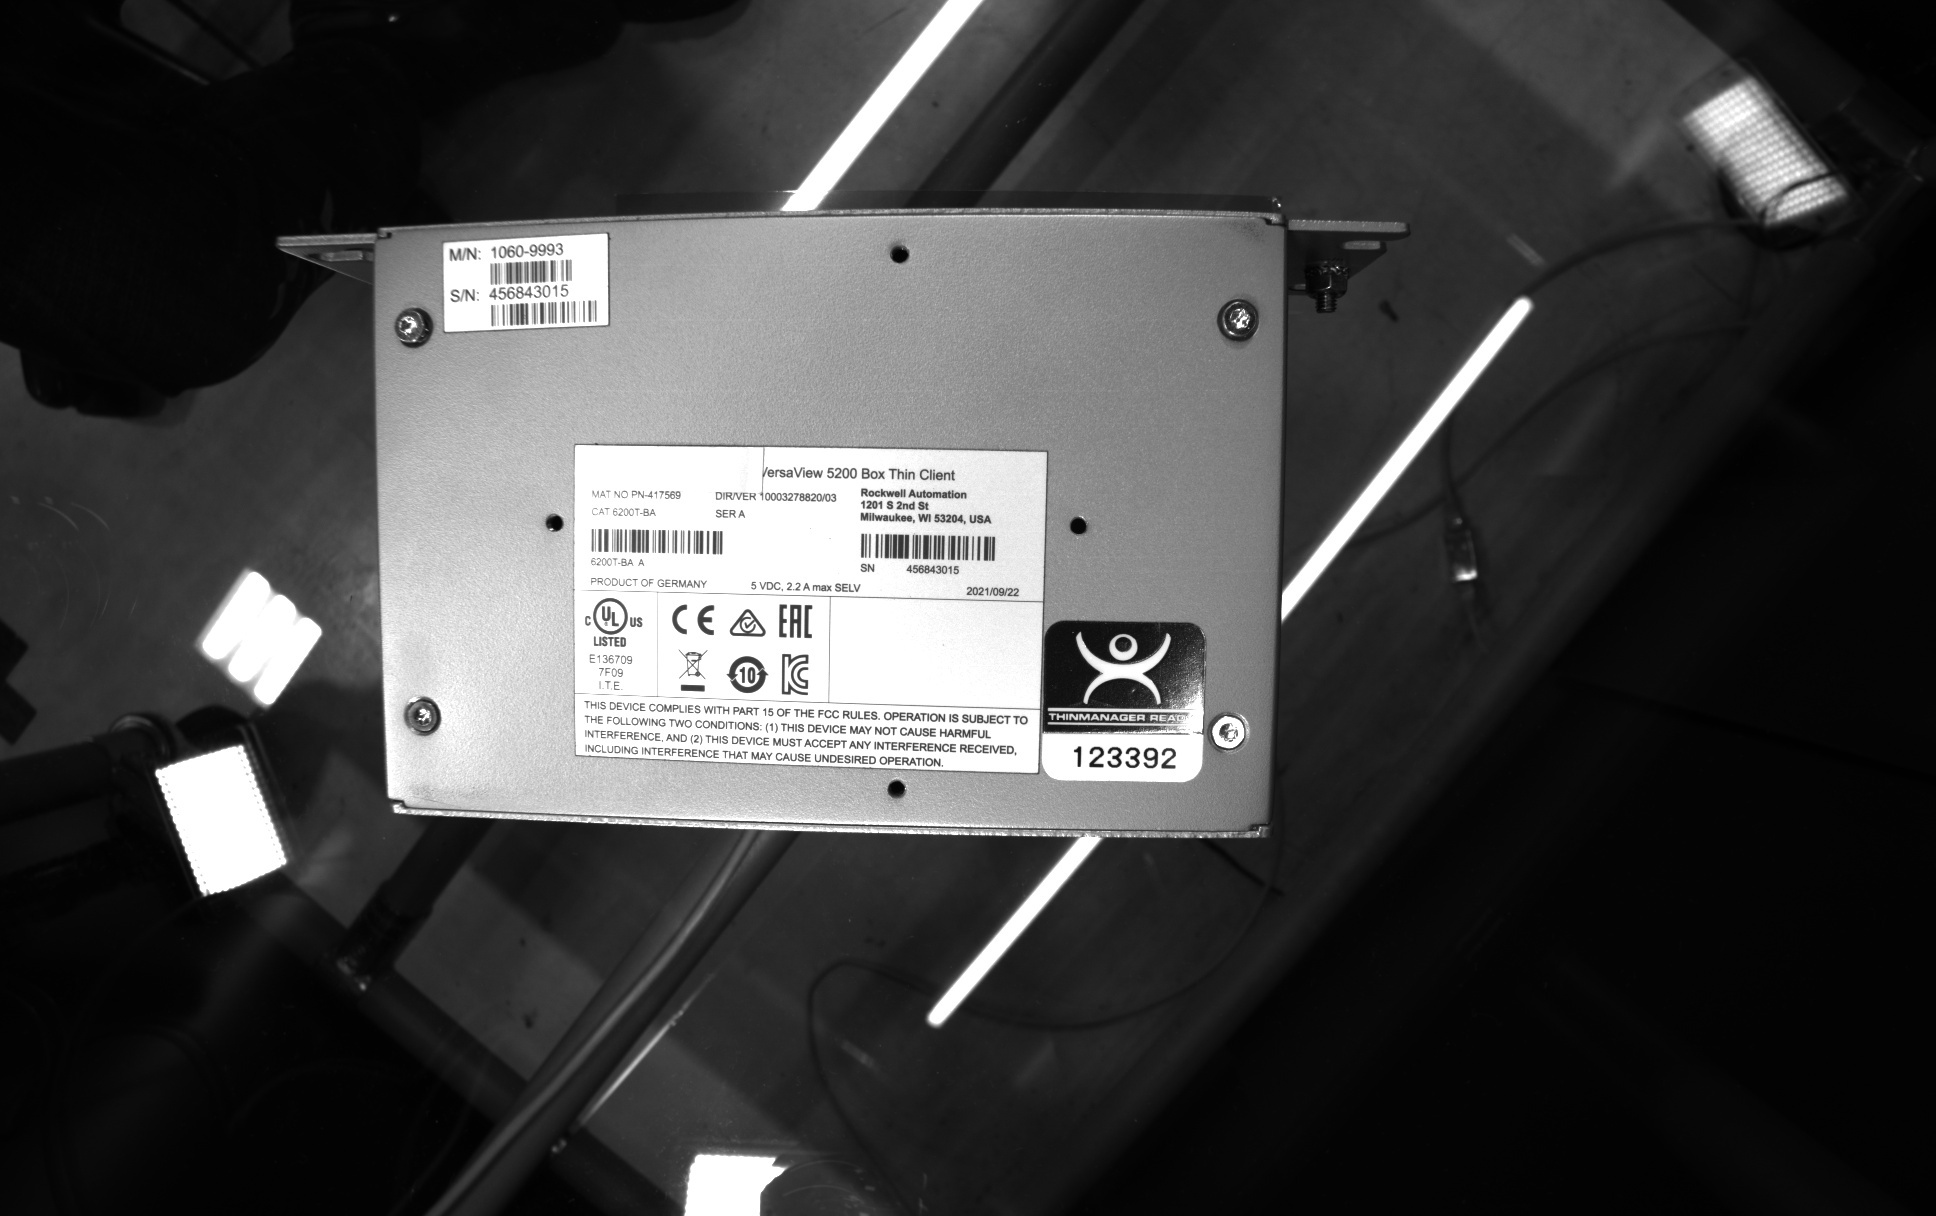Barcode: (587, 520, 730, 563), (850, 528, 1002, 566), (482, 296, 604, 331), (485, 254, 579, 289)
CamTop: (354, 195, 1306, 859)
Label_Seriennummer: (560, 430, 1066, 785)
Loch_Montage: (537, 502, 576, 548), (871, 773, 916, 813), (1062, 502, 1101, 544), (880, 231, 920, 270)
Schraube: (396, 692, 447, 748), (1210, 706, 1259, 761)
Schraube_halb: (1208, 291, 1265, 345), (389, 303, 438, 354)
